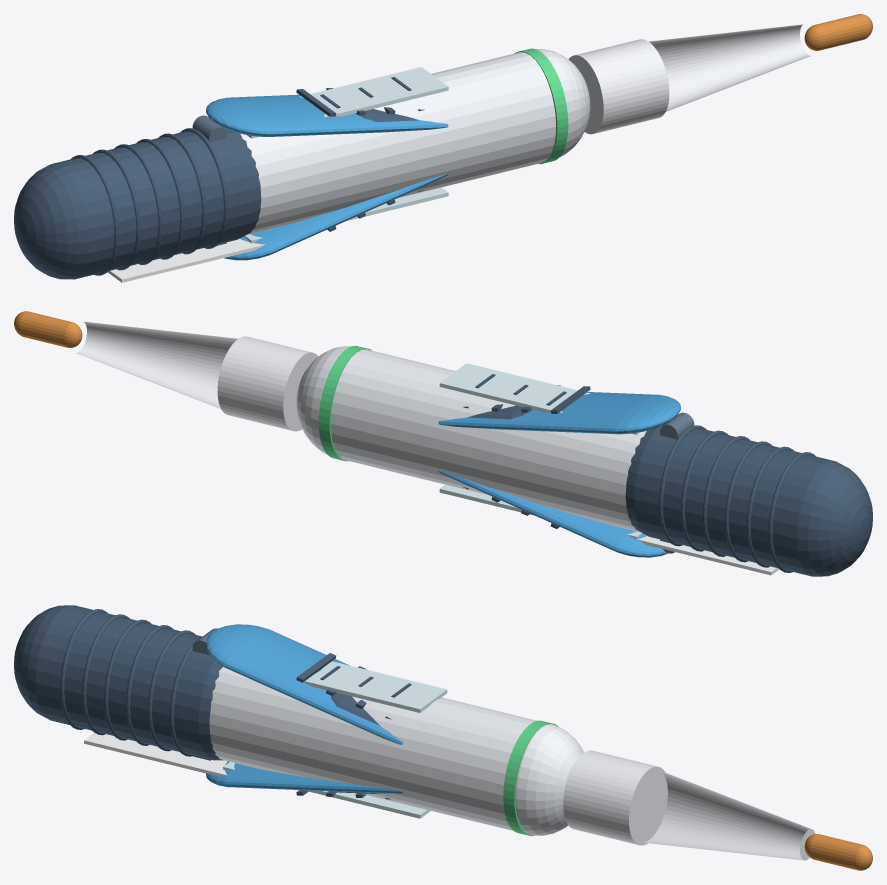
Rendered from dranmar_skin_adhesive_applicator_squeezed.glb.
3 views of the same model, one above another, from view 1: azimuth 30°, elevation 25°; view 2: azimuth 150°, elevation 25°; view 3: azimuth 330°, elevation 25° (orthographic).
Parts seen in each view (by area): view 1: Body_BodyShell, Body_RearGrip, Body_Nozzle, Body_NozzleCollar, LeftPaddle_PaddleBody, Body_ReservoirWindowLeft, RightPaddle_PaddleBody, Body_LabelPanel, Body_ApplicatorWick, Body_StateIndicator, Body_ReservoirWindowRight, Body_GripRib_00 (+6 smaller); view 2: Body_BodyShell, Body_RearGrip, Body_Nozzle, Body_NozzleCollar, LeftPaddle_PaddleBody, Body_ReservoirWindowLeft, RightPaddle_PaddleBody, Body_ApplicatorWick, Body_StateIndicator, Body_LabelPanel, Body_ReservoirWindowRight, Body_GripRib_00 (+6 smaller); view 3: Body_BodyShell, Body_RearGrip, Body_Nozzle, Body_NozzleCollar, LeftPaddle_PaddleBody, Body_ReservoirWindowLeft, RightPaddle_PaddleBody, Body_LabelPanel, Body_ApplicatorWick, Body_StateIndicator, Body_ReservoirWindowRight, Body_GripRib_01 (+6 smaller).
Part boxes in pixels (left/top/right/bottom): Body_BodyShell: left=240, top=49, right=590, bottom=234; Body_RearGrip: left=14, top=127, right=261, bottom=279; Body_Nozzle: left=649, top=24, right=810, bottom=111; Body_NozzleCollar: left=568, top=39, right=669, bottom=134; LeftPaddle_PaddleBody: left=206, top=94, right=448, bottom=136; Body_ReservoirWindowLeft: left=247, top=67, right=448, bottom=138; RightPaddle_PaddleBody: left=224, top=173, right=448, bottom=260; Body_LabelPanel: left=107, top=238, right=265, bottom=282; Body_ApplicatorWick: left=804, top=14, right=872, bottom=50; Body_StateIndicator: left=514, top=48, right=568, bottom=164; Body_ReservoirWindowRight: left=244, top=187, right=448, bottom=243; Body_GripRib_00: left=71, top=155, right=118, bottom=275; Body_BodyShell: left=296, top=346, right=646, bottom=532; Body_RearGrip: left=625, top=424, right=872, bottom=576; Body_Nozzle: left=76, top=321, right=237, bottom=408; Body_NozzleCollar: left=217, top=336, right=318, bottom=431; LeftPaddle_PaddleBody: left=438, top=392, right=680, bottom=434; Body_ReservoirWindowLeft: left=439, top=363, right=639, bottom=434; RightPaddle_PaddleBody: left=438, top=470, right=668, bottom=557; Body_ApplicatorWick: left=14, top=311, right=82, bottom=347; Body_StateIndicator: left=318, top=345, right=371, bottom=461; Body_LabelPanel: left=637, top=536, right=779, bottom=575; Body_ReservoirWindowRight: left=439, top=484, right=642, bottom=539; Body_GripRib_00: left=768, top=452, right=815, bottom=572; Body_BodyShell: left=209, top=667, right=584, bottom=835; Body_RearGrip: left=14, top=605, right=223, bottom=760; Body_Nozzle: left=642, top=771, right=815, bottom=860; Body_NozzleCollar: left=563, top=750, right=667, bottom=845; LeftPaddle_PaddleBody: left=206, top=624, right=402, bottom=744; Body_ReservoirWindowLeft: left=296, top=661, right=447, bottom=712; RightPaddle_PaddleBody: left=206, top=761, right=402, bottom=793; Body_LabelPanel: left=84, top=733, right=227, bottom=776; Body_ApplicatorWick: left=804, top=834, right=872, bottom=870; Body_StateIndicator: left=503, top=720, right=558, bottom=836; Body_ReservoirWindowRight: left=223, top=762, right=430, bottom=818; Body_GripRib_01: left=82, top=614, right=129, bottom=735.
Size of the model in its own units: 0.1553 by 0.0248 by 0.0177.
